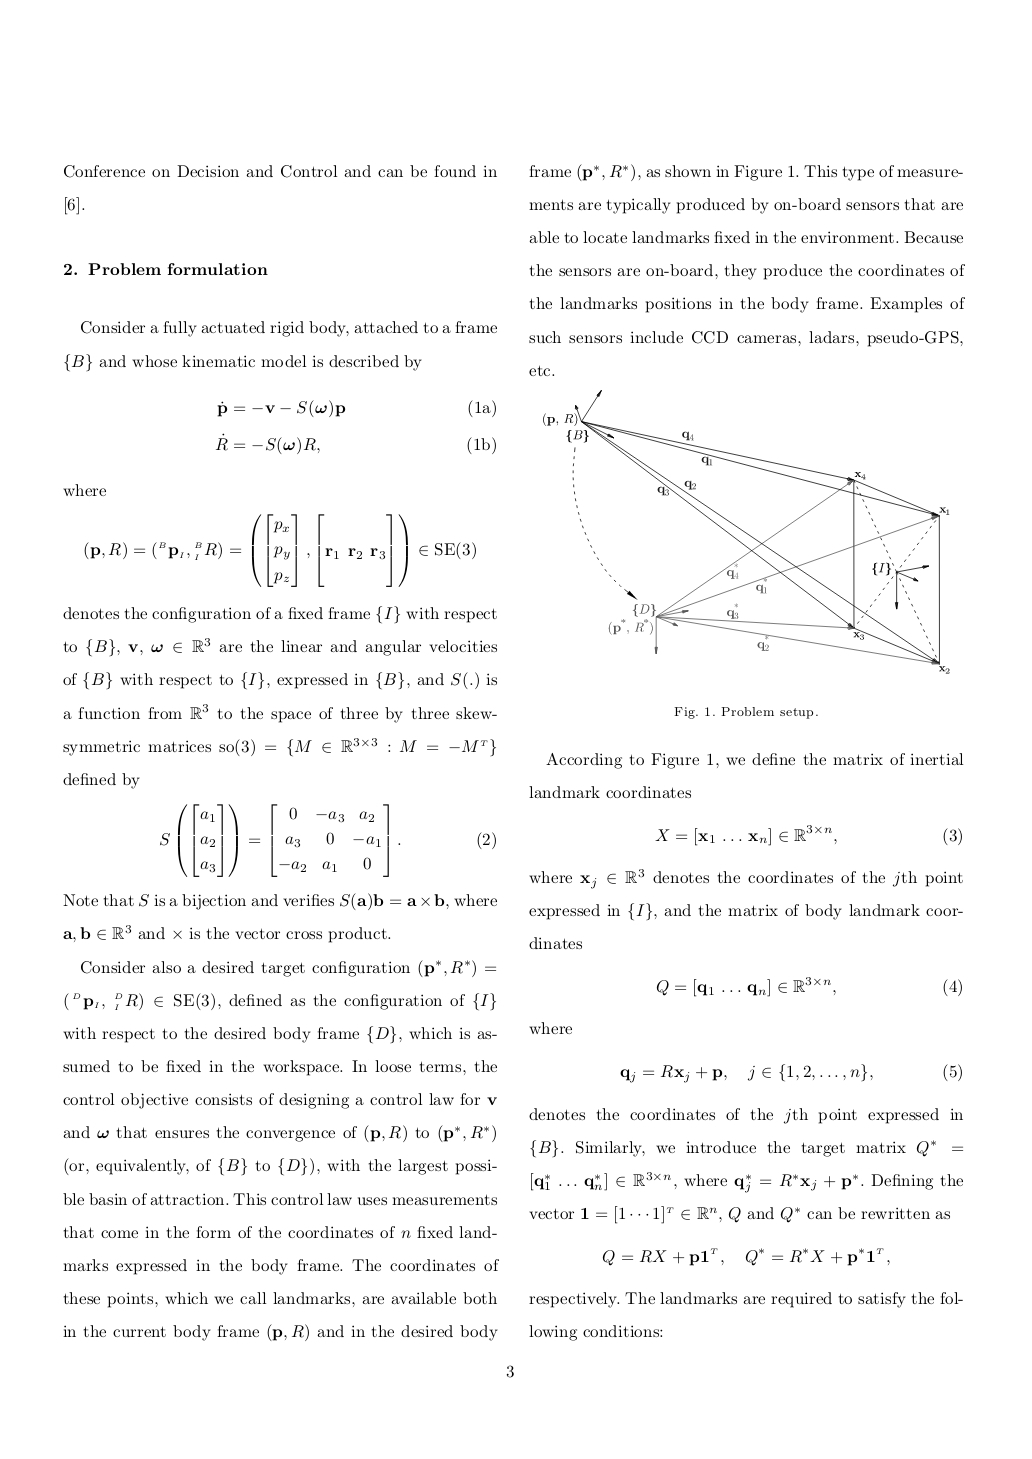figure: (543, 388, 949, 674)
formula: (84, 512, 475, 587), (160, 802, 495, 877), (620, 1062, 961, 1083), (654, 824, 961, 846), (656, 975, 961, 997), (602, 1247, 889, 1266), (214, 436, 495, 455), (217, 399, 495, 417)
